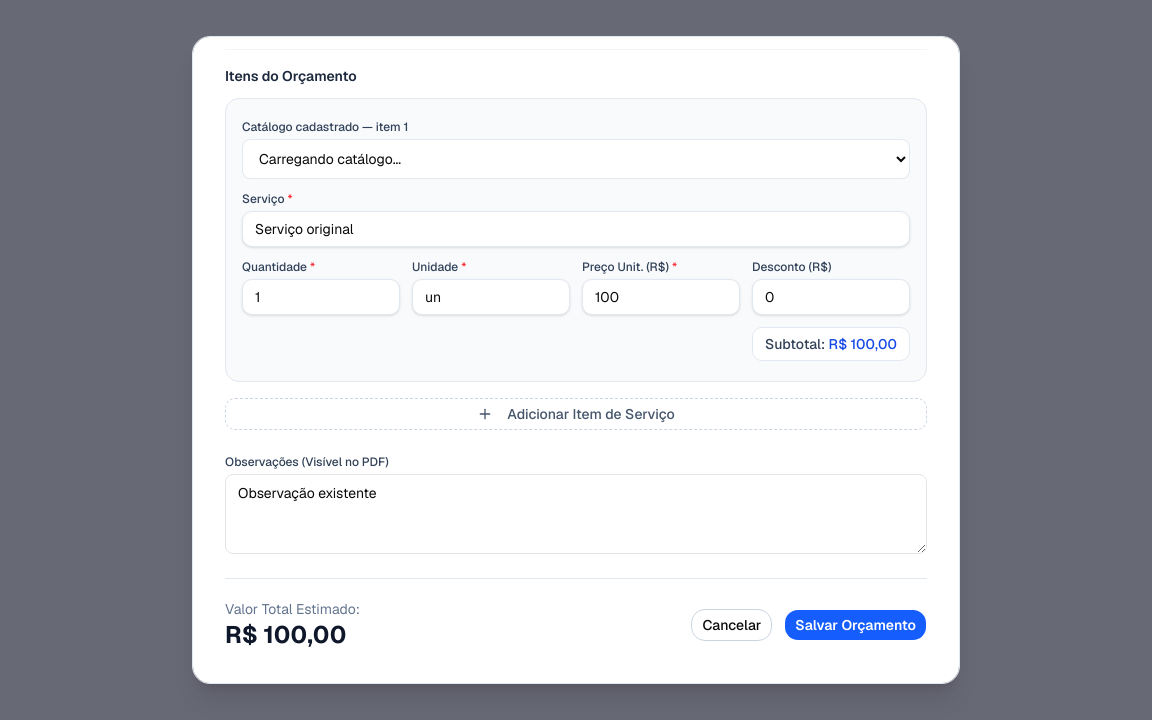
Test: AC-206 pending quotation editing › rejects editing a quotation that is no longer pending
(page scrolled)
Click the button "Salvar Orçamento" at (856, 625), box [784, 609, 927, 641]
(page scrolled)
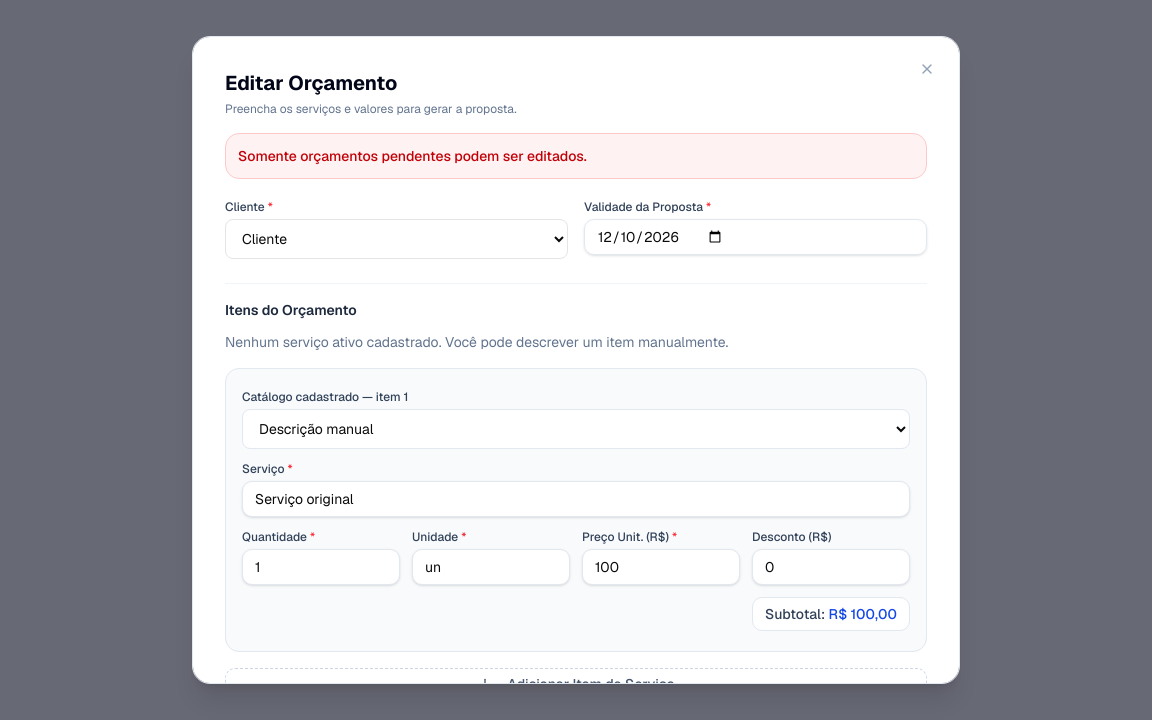
Check: the message reads "Somente orçamentos pendentes podem ser editados.", box [238, 147, 587, 165]
